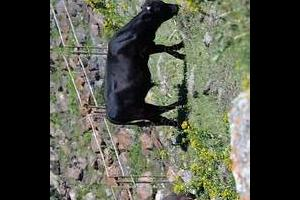cow: (104, 0, 186, 128), (154, 187, 204, 200)
